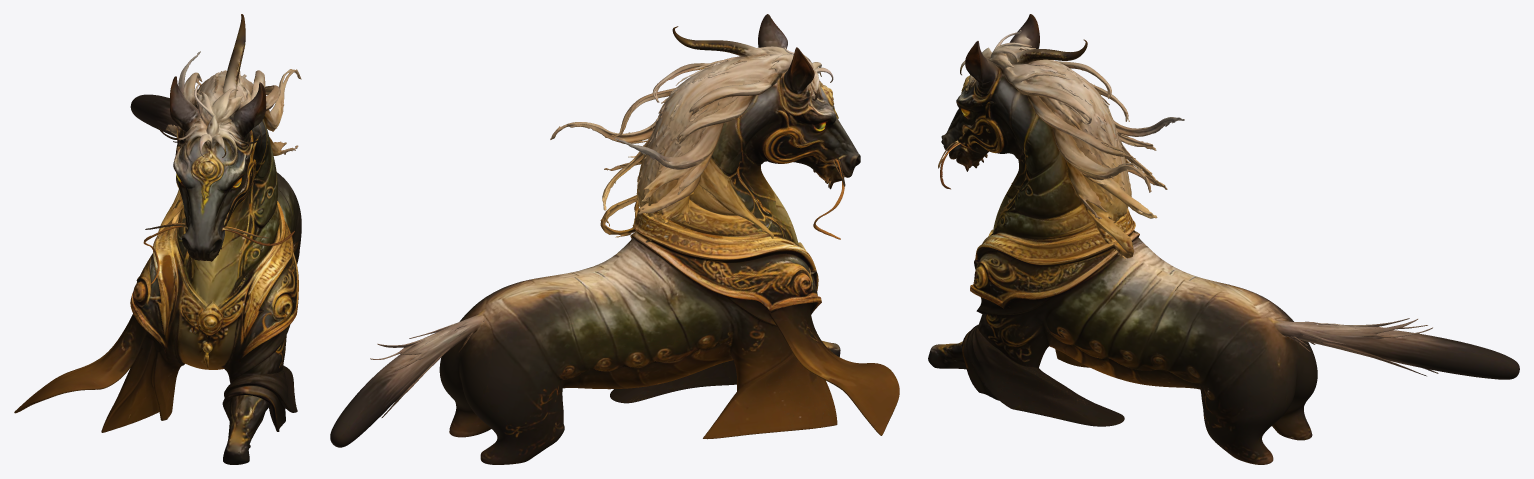
The model's file is can-ma.glb.
3 renders of one model, left to right at view 1: azimuth 30°, elevation 25°; view 2: azimuth 150°, elevation 25°; view 3: azimuth 270°, elevation 25°, orthographic. The views are drawn at different scales.
Visible parts, largest first — view 1: node_0; view 2: node_0; view 3: node_0.
Part boxes in pixels (x1,y1,x2,y2): node_0: (14,14,301,464); node_0: (330,14,899,464); node_0: (928,14,1519,464).
Bounding box in the file's own units: 0.6671 × 0.6628 × 0.9839.
1 material, 1 textured.
